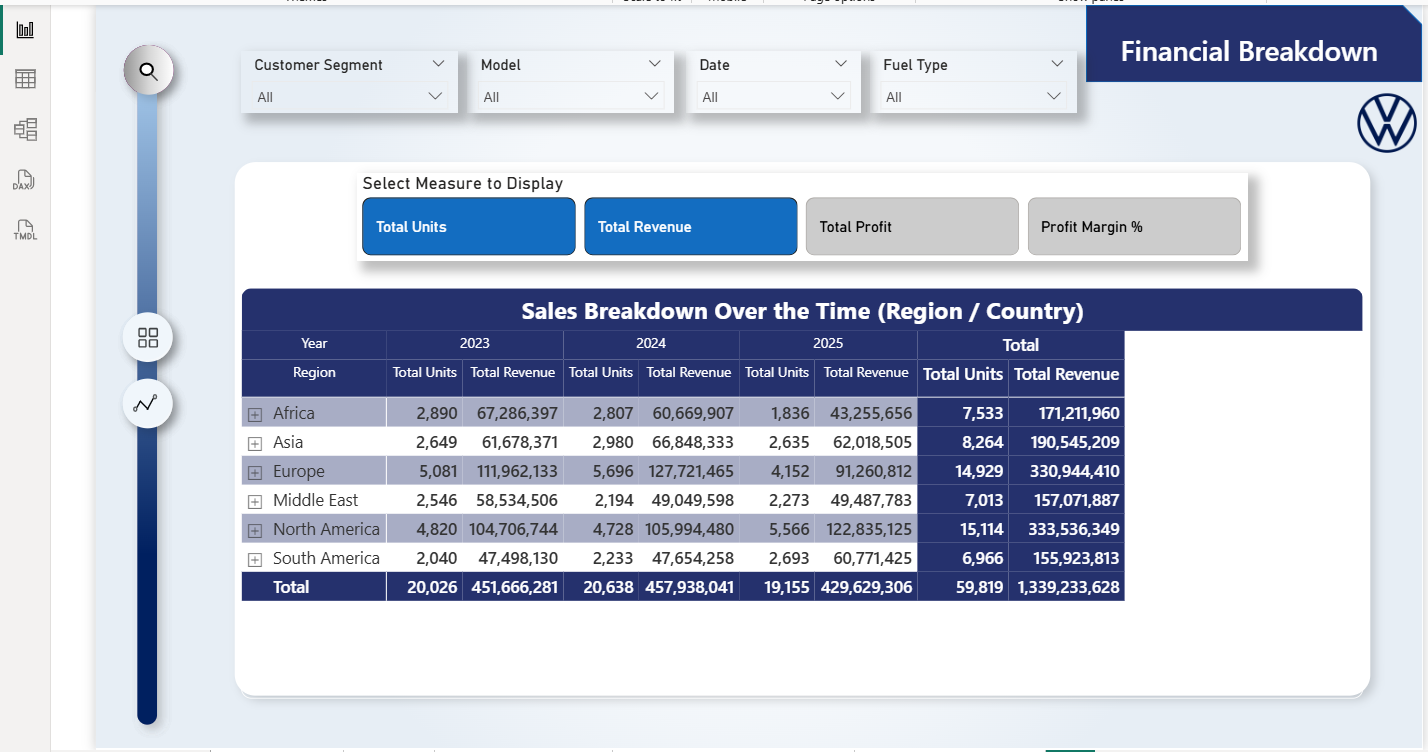

The page's visual inventory and layout, read from the dashboard file:
{"tool":"powerbi","page":{"name":"Financial Breakdown","canvas":[1280,720],"ordinal":4},"visuals":[{"type":"shape","box":[22.9,295.6,50.7,47.1],"z":0},{"type":"shape","box":[22.9,359.5,50.7,47.1],"z":1000},{"type":"shape","box":[955.5,0,324.5,74.8],"z":2000},{"type":"pivotTable","title":"Sales Breakdown Over the Time (Region / Country)","fields":{"Values":["Sales Fact Table.Total Units","Sales Fact Table.Total Revenue"],"Rows":["Country.Region","Country.Country","CustomerSegment.Customer_Segment","Model.Model"],"Columns":["Date Dim.Year","Date Dim.MonthShort"]},"box":[139.9,272.7,1083.4,396.9],"z":3000},{"type":"advancedSlicerVisual","fields":{"Values":["Parameter 2.Parameter"]},"box":[252.1,161.7,860.2,85.7],"z":4000},{"type":"slicer","fields":{"Values":["Model.Model"]},"box":[358.3,44.7,200.3,59.1],"z":5000},{"type":"image","box":[1212.5,74.8,67.6,78.4],"z":6000},{"type":"slicer","fields":{"Values":["Date Dim.Year","Date Dim.QuarterName","Date Dim.MonthName"]},"box":[569.4,44.7,168.9,59.1],"z":7000},{"type":"slicer","fields":{"Values":["CustomerSegment.Customer_Segment"]},"box":[139.9,44.7,209.9,59.1],"z":8000},{"type":"slicer","fields":{"Values":["FuelType.Fuel_Type"]},"box":[746.8,44.7,200.3,59.1],"z":9000}]}

Visuals, with their boxes on the page's 1280x720 design canvas (x1, y1, x2, y2). These are canvas units, not pixel positions in the 1428x752 screenshot, which may show the page scaled, cropped or inside an application window:
shape: left=23, top=296, right=74, bottom=343
shape: left=23, top=360, right=74, bottom=407
shape: left=956, top=0, right=1280, bottom=75
"Sales Breakdown Over the Time (Region / Country)" pivotTable: left=140, top=273, right=1223, bottom=670
advancedSlicerVisual - Parameter 2.Parameter: left=252, top=162, right=1112, bottom=247
slicer - Model.Model: left=358, top=45, right=559, bottom=104
image: left=1212, top=75, right=1280, bottom=153
slicer - Date Dim.Year x Date Dim.QuarterName: left=569, top=45, right=738, bottom=104
slicer - CustomerSegment.Customer_Segment: left=140, top=45, right=350, bottom=104
slicer - FuelType.Fuel_Type: left=747, top=45, right=947, bottom=104
